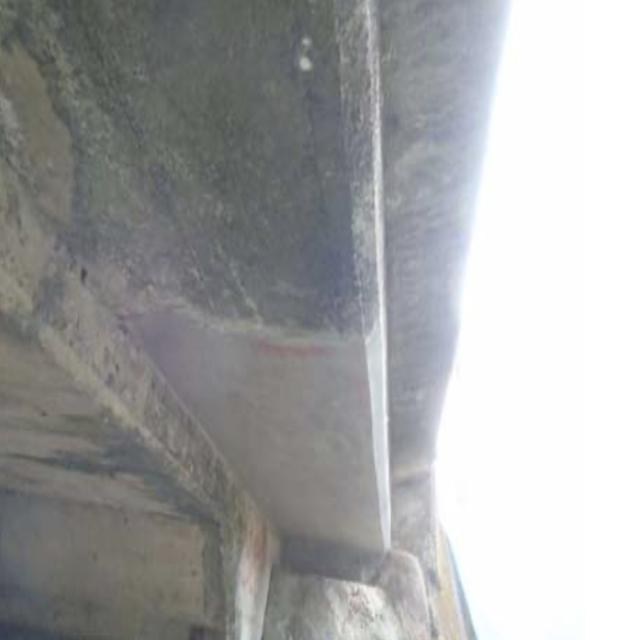freelime: (224, 494, 267, 640)
